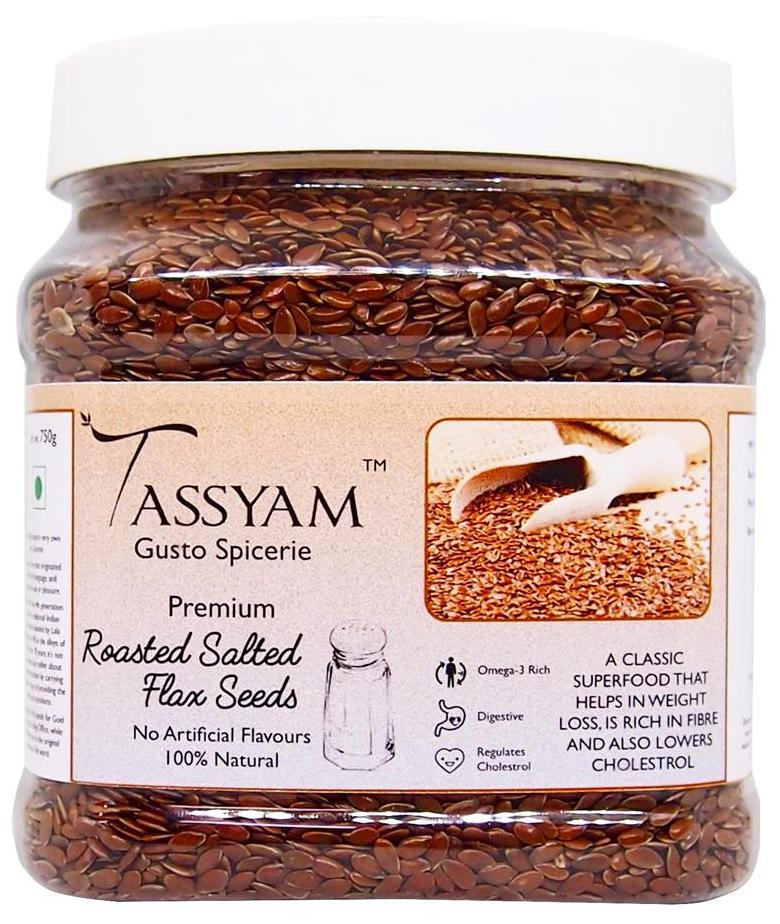JAR: (9, 5, 769, 910)
